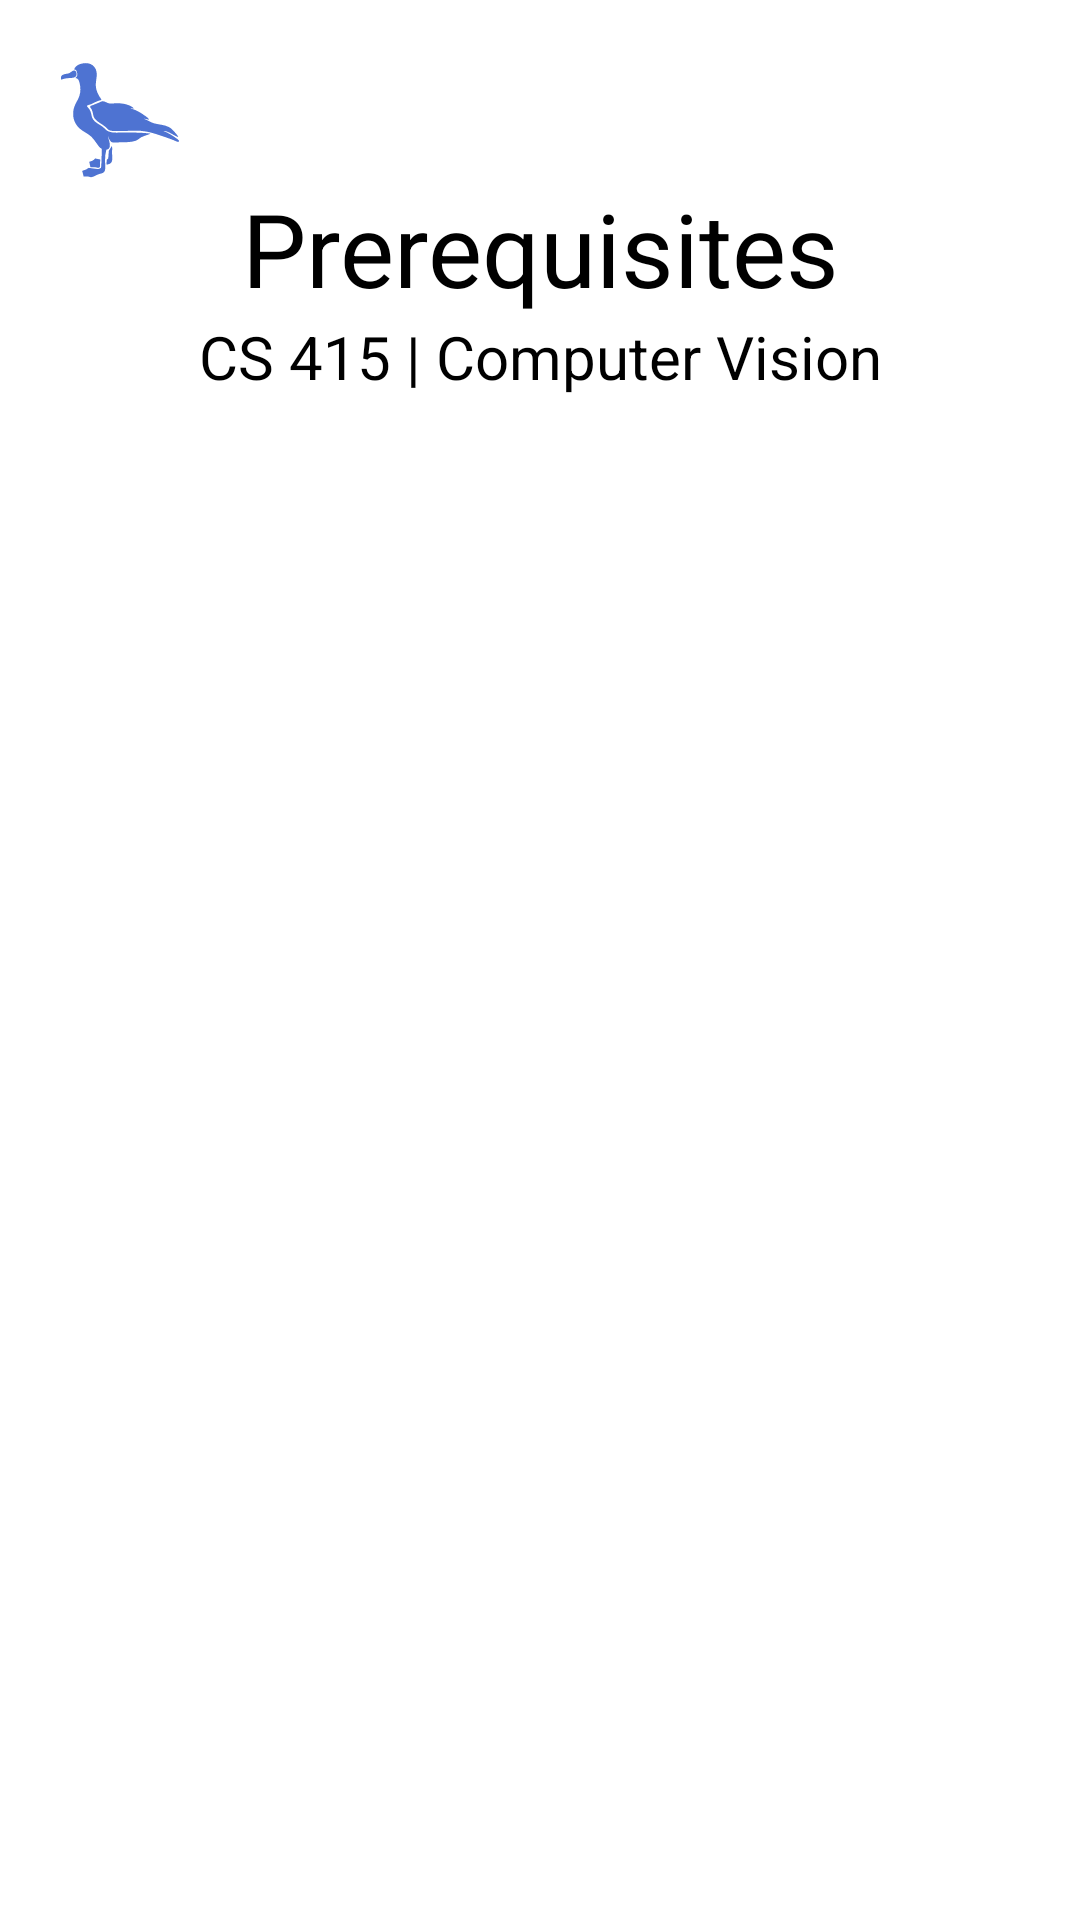

Icon bounding boxes for this 1080 x 1920 phone screenshot, format bbox(x1, y1, x2, y2):
albatross: bbox(61, 63, 179, 177)
